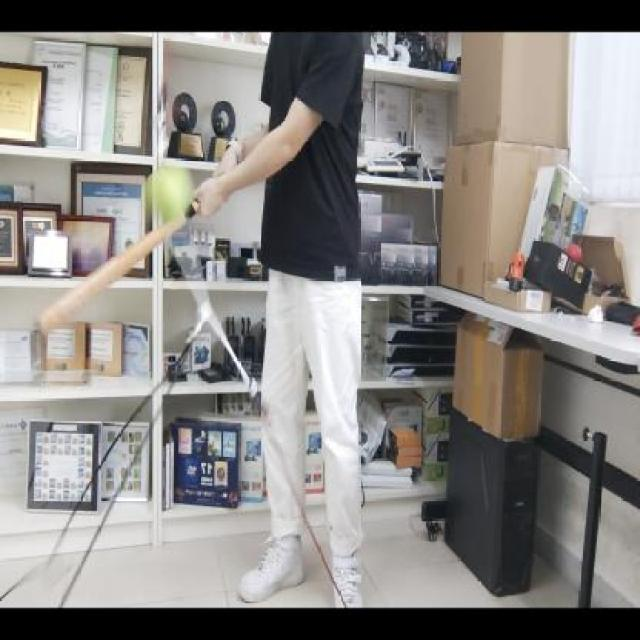baseball: (142, 166, 193, 232)
